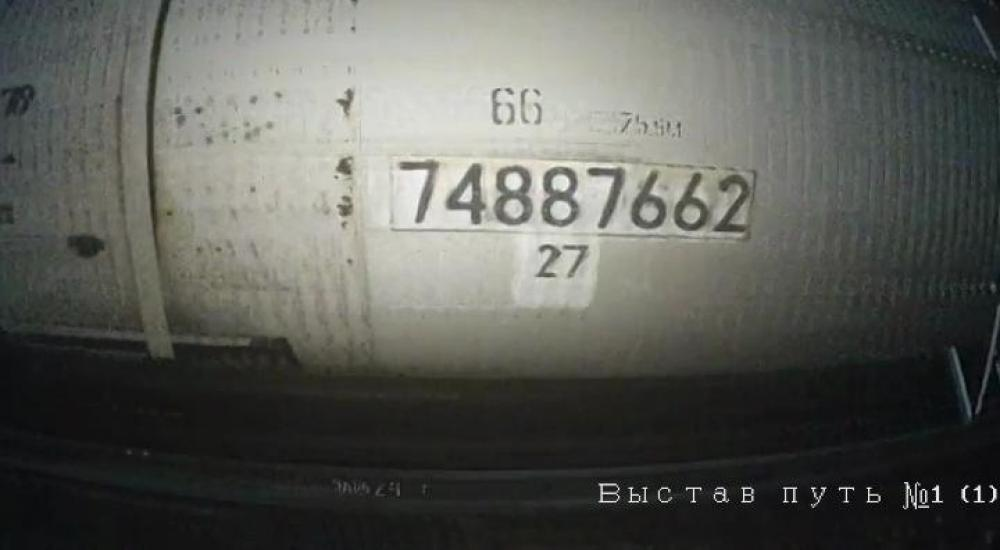Wagon-number: (394, 156, 752, 238)
